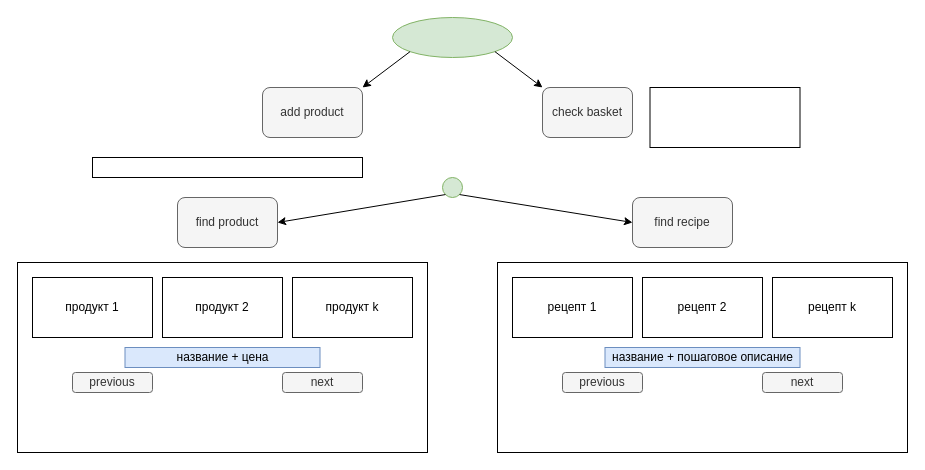
The diagram is 925 pixels wide and 470 high, and some of its shapes have lost their labels. Here are the shapes that lost their labels. From the top down, the centre of each, then its label:
At point 452,37: "start".
At point 724,117: "- milk - cookie - water".
At point 227,167: "search bar".
